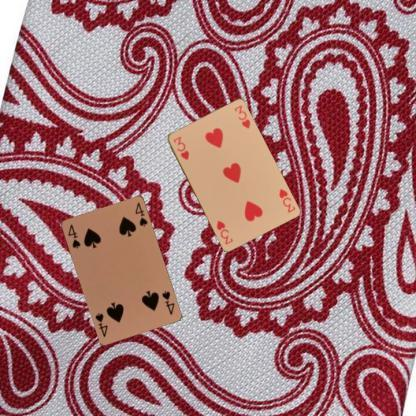3h: (170, 134, 191, 162), (276, 186, 297, 214)
4s: (159, 288, 176, 316), (66, 221, 82, 250)
